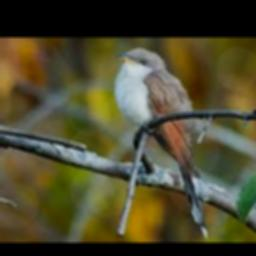Cuckoo: (115, 47, 207, 238)
